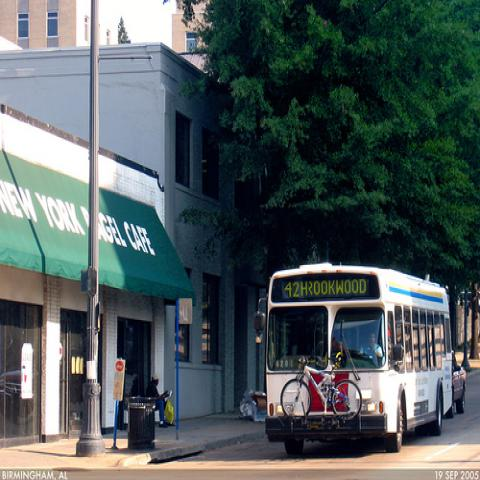bus: (265, 262, 454, 458)
car: (453, 352, 469, 414)
